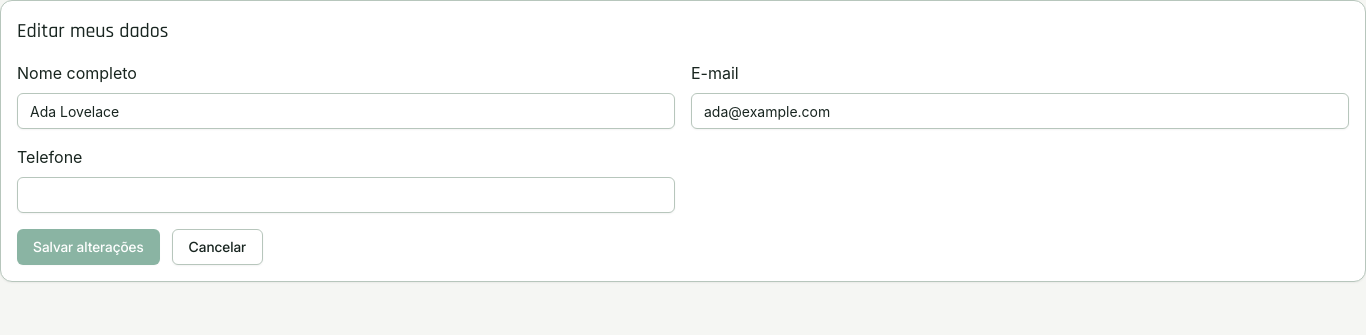
Test: ProfileContactForm › mantém nome e e-mail digitados e informa conflito sem expor resposta remota
Replace the text in the field labelled "Nome completo" with "Ada Byron" at x=346, y=111, box [17,93,675,129]
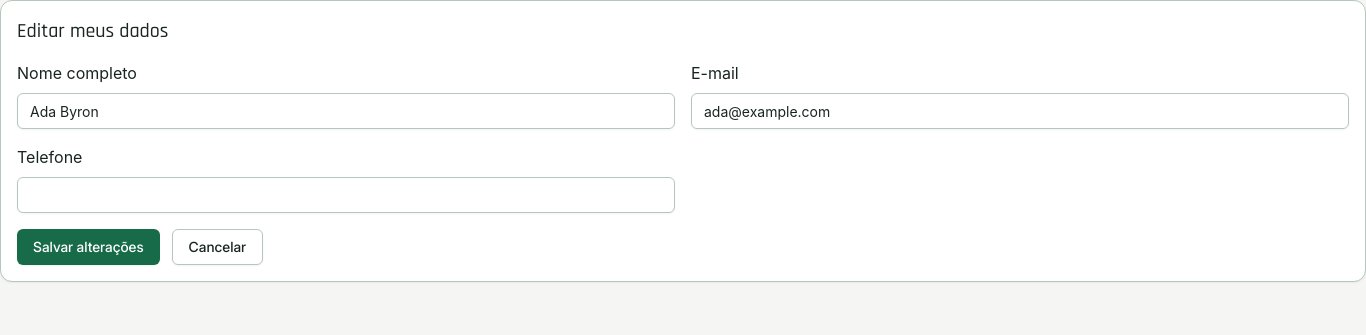
Replace the text in the field labelled "E-mail" with "used@example.com" at x=1020, y=111, box [691,93,1349,129]
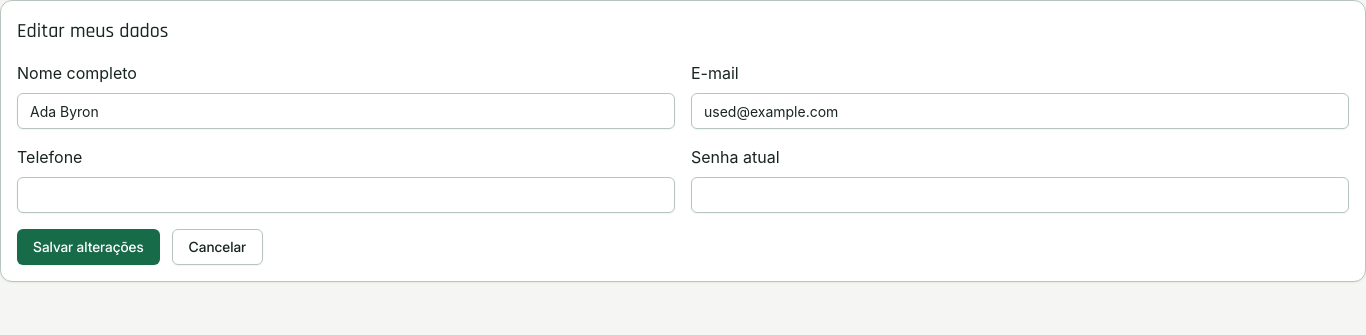
Type "transient-secret" into the password field labelled "Senha atual".
click(1020, 195); type("transient-secret")  # box [691,177,1349,213]
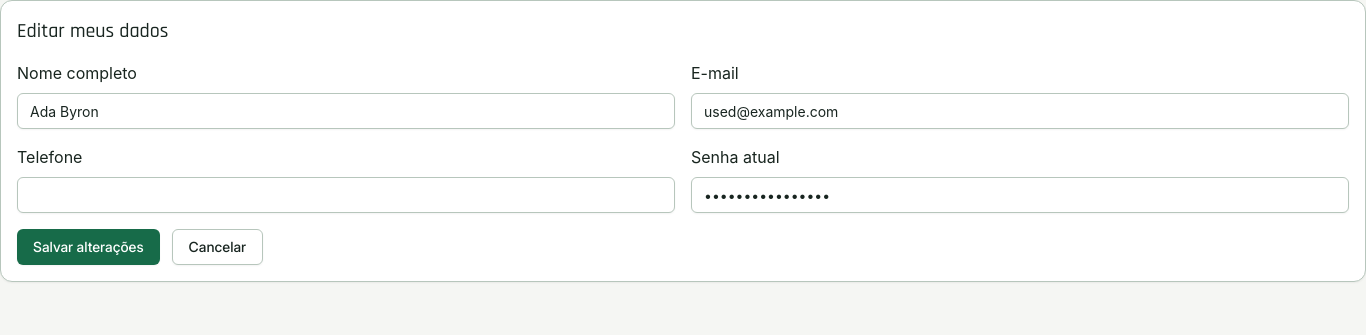
Click the button "Salvar alterações".
click(88, 247)  # box [17,229,160,265]
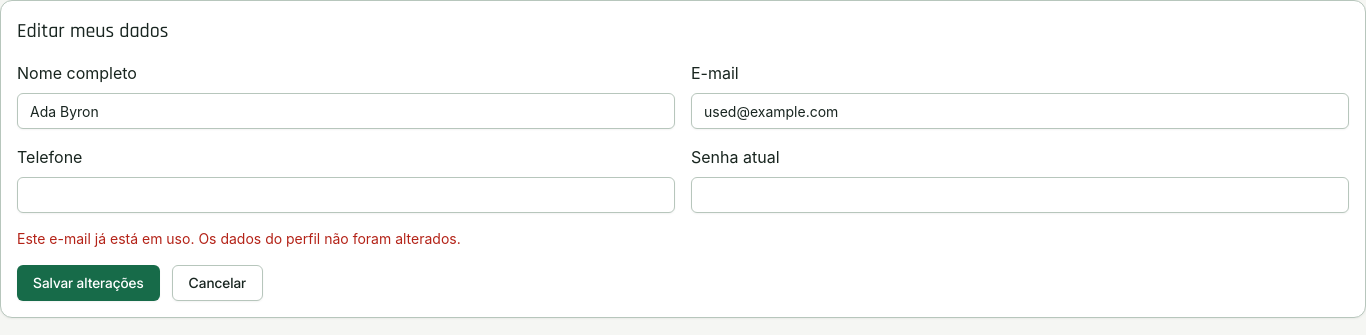
Now the message reads "Este e-mail já está em uso. Os dados do perfil não foram alterados.", box [17,230,461,247]
Now the password field labelled "Senha atual" is empty, box [691,177,1349,213]
